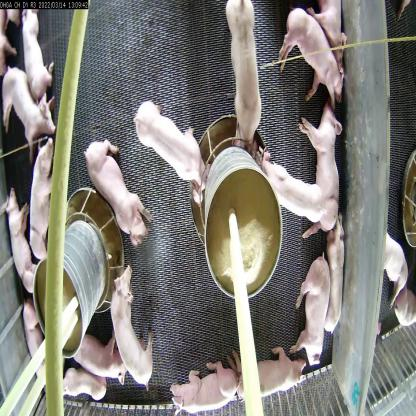Pig: (75, 124, 151, 260), (210, 0, 264, 149), (257, 136, 325, 244), (140, 95, 207, 196), (303, 94, 352, 228), (271, 17, 339, 104), (111, 279, 160, 394), (28, 132, 73, 250), (5, 67, 52, 172), (18, 1, 60, 118), (234, 340, 301, 404), (295, 246, 330, 357), (3, 190, 39, 295), (161, 372, 243, 416), (328, 217, 358, 334), (68, 327, 120, 389)
